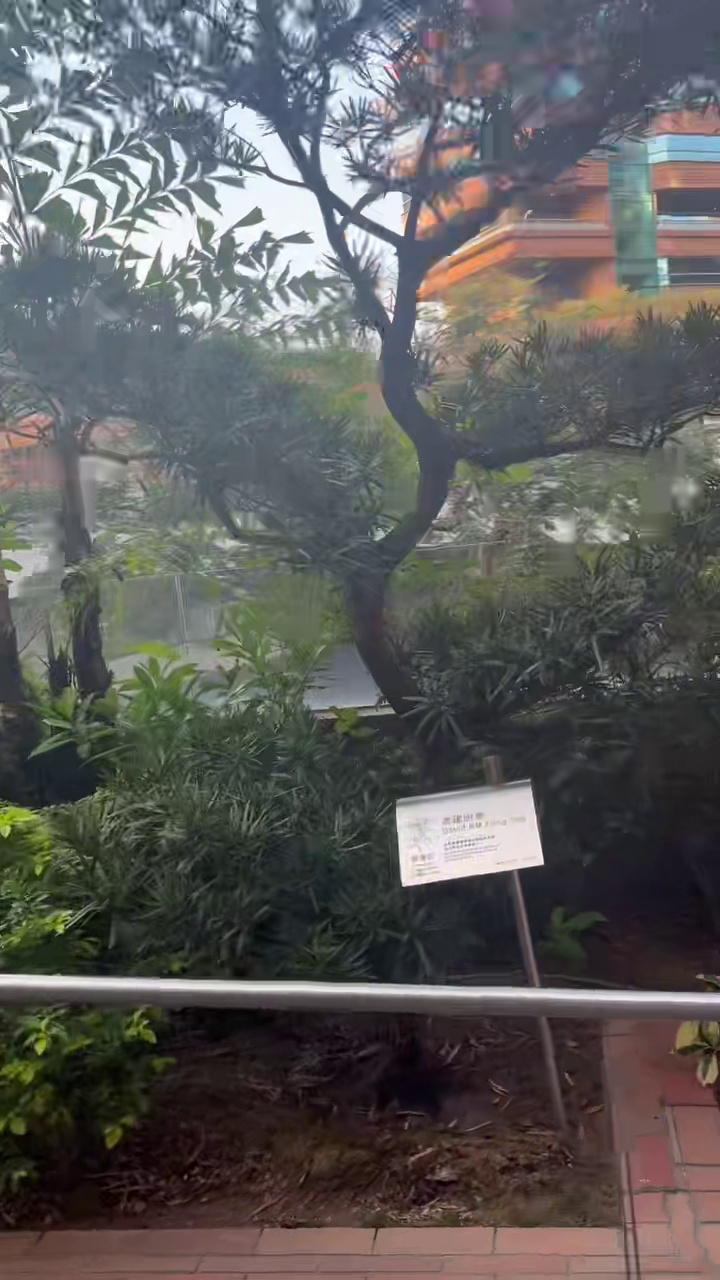Podocarpus macrophyllus: (108, 0, 719, 723)
